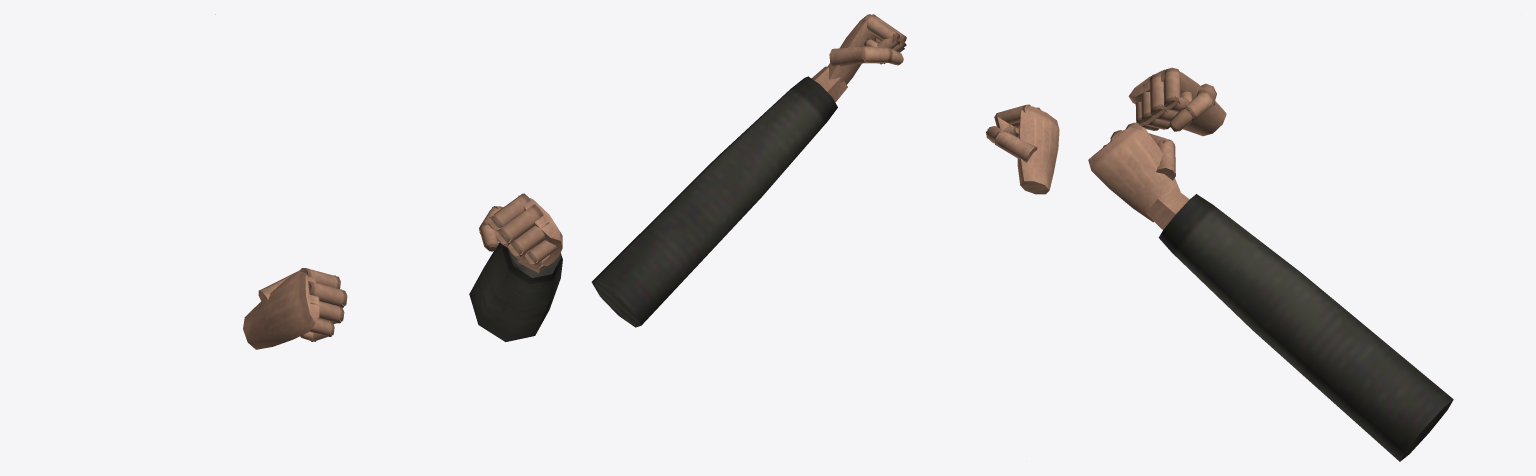
Rendered from fp_arms_flashlight.obj.
The picture shows the model from 3 angles, left to right: view 1: azimuth 30°, elevation 25°; view 2: azimuth 150°, elevation 25°; view 3: azimuth 270°, elevation 25°; orthographic projection. The views are drawn at different scales.
Visible parts, largest first — view 1: fp_arms_flashlight_mesh; view 2: fp_arms_flashlight_mesh; view 3: fp_arms_flashlight_mesh.
Part boxes in pixels (x1,y1,x2,y2): fp_arms_flashlight_mesh: (215,14,562,349); fp_arms_flashlight_mesh: (591,14,1059,327); fp_arms_flashlight_mesh: (1088,67,1453,461).
Size of the model in its own units: 0.6494 by 0.4423 by 0.4937.
1 material, 1 textured.
